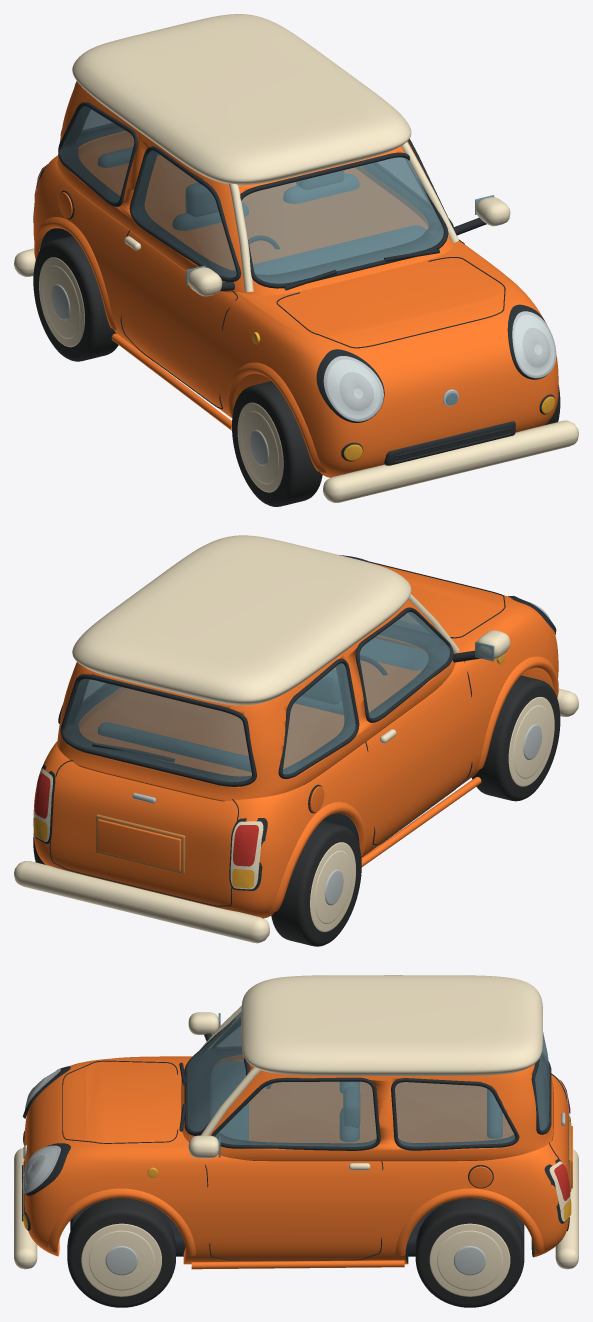
File: surf-car-09.glb
The picture shows the model from 3 angles, top to bottom: view 1: azimuth 30°, elevation 25°; view 2: azimuth 150°, elevation 25°; view 3: azimuth 270°, elevation 25°; orthographic projection. The views are drawn at different scales.
Visible parts, largest first — view 1: Orange continuous body, Cream rounded roof, Glass windscreen, Orange cabin pillars, Glass door L, Cream bumper, tyre, Glass quarter L, tyre.001, Recessed round headlight, Recessed round headlight.001, Dashboard (+20 smaller); view 2: Orange continuous body, Cream rounded roof, Orange cabin pillars, Glass rear window, Cream bumper.001, Glass door L, Glass quarter L, tyre.001, tyre, Plain orange plate, Fine black rear window seal, Rear backrest (+16 smaller); view 3: Orange continuous body, Cream rounded roof, Orange cabin pillars, Glass door R, Glass quarter R, tyre.003, tyre.002, Glass windscreen, rim recess.003, rim recess.002, Orange flared wheel arch.002, Orange flared wheel arch.003 (+22 smaller).
Boxes of the visible parts, box(x1,y1,x2,y2) form: Orange continuous body: box(33, 136, 558, 477); Cream rounded roof: box(72, 14, 411, 185); Glass windscreen: box(241, 157, 443, 283); Orange cabin pillars: box(57, 81, 455, 295); Glass door L: box(133, 151, 236, 277); Cream bumper: box(323, 420, 578, 502); tyre: box(232, 381, 322, 506); Glass quarter L: box(61, 106, 134, 202); tyre.001: box(33, 236, 118, 361); Recessed round headlight: box(316, 349, 384, 422); Recessed round headlight.001: box(507, 304, 556, 379); Dashboard: box(233, 225, 426, 274); Orange continuous body: box(33, 562, 558, 918); Cream rounded roof: box(72, 535, 411, 705); Orange cabin pillars: box(57, 599, 455, 801); Glass rear window: box(64, 679, 251, 781); Cream bumper.001: box(14, 861, 269, 943); Glass door L: box(359, 612, 450, 718); Glass quarter L: box(282, 663, 355, 774); tyre.001: box(271, 821, 361, 946); tyre: box(471, 675, 560, 801); Plain orange plate: box(98, 819, 180, 871); Fine black rear window seal: box(60, 674, 256, 786); Rear backrest: box(98, 722, 251, 771); Orange continuous body: box(24, 1056, 570, 1264); Cream rounded roof: box(241, 975, 542, 1075); Orange cabin pillars: box(181, 1018, 553, 1161); Glass door R: box(215, 1081, 376, 1146); Glass quarter R: box(395, 1082, 515, 1146); tyre.003: box(415, 1198, 524, 1307); tyre.002: box(67, 1198, 175, 1307); Glass windscreen: box(188, 1011, 245, 1131); rim recess.003: box(437, 1230, 502, 1290); rim recess.002: box(89, 1230, 154, 1290); Orange flared wheel arch.002: box(47, 1188, 195, 1255); Orange flared wheel arch.003: box(395, 1188, 544, 1255).
Size of the model in its own units: 2.04 by 1.71 by 3.63.
